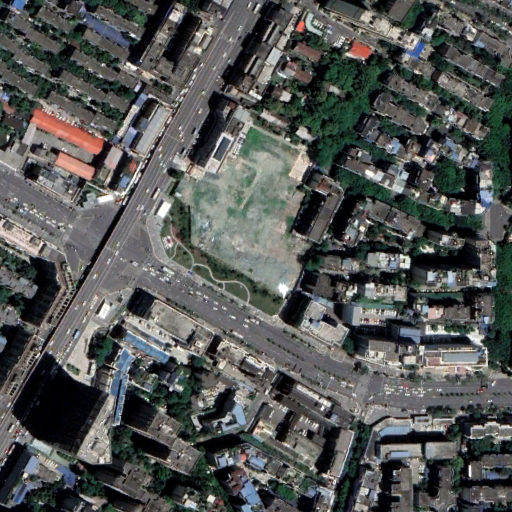cw: (169, 126, 312, 294)
